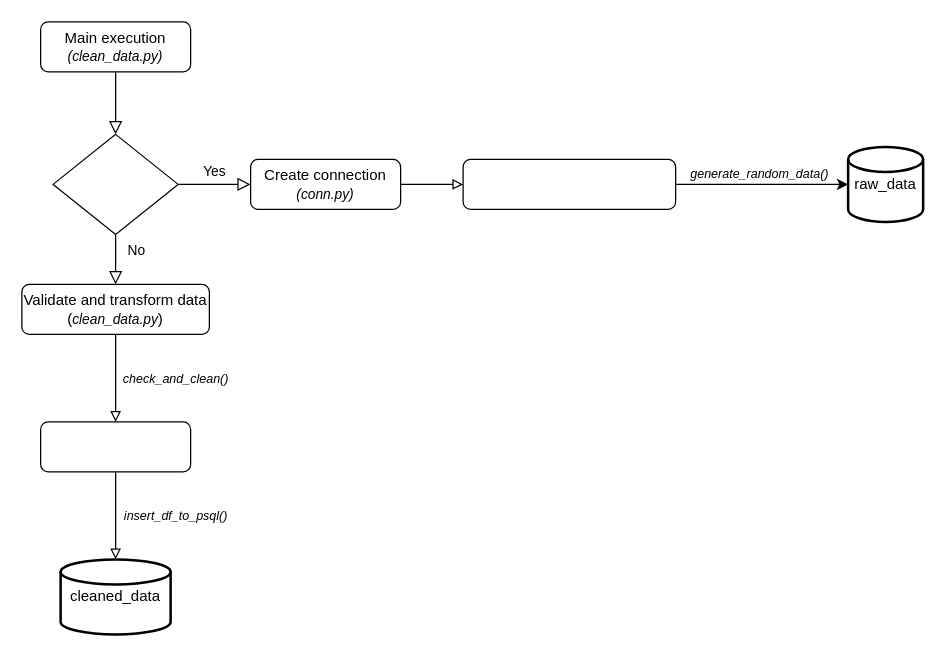
This 946x658 diagram has some shape labels left out. The shapes that lost their labels are listed below. From the top down, each one's centre as x and y in pixels, then its label:
At point 115,183: "`raw_data` table is empty?".
At point 569,183: "Create and insert random data (generate_data.py)".
At point 115,446: "Insert clean data (conn.py)".
